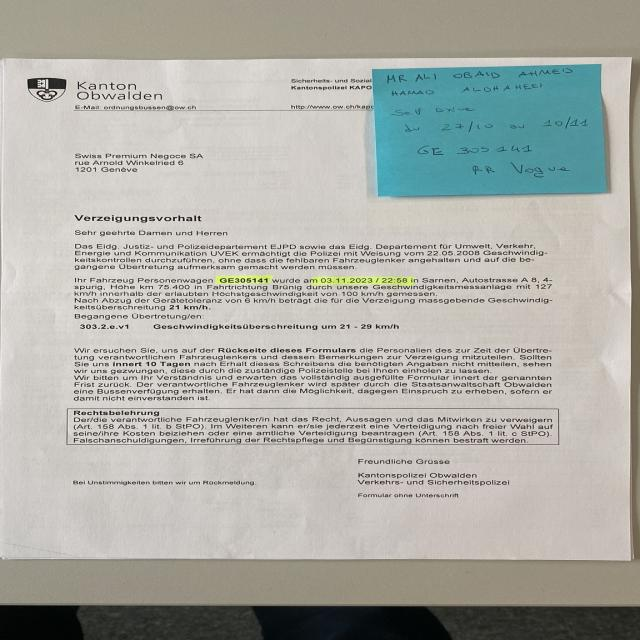paper-document-: (0, 57, 633, 562)
